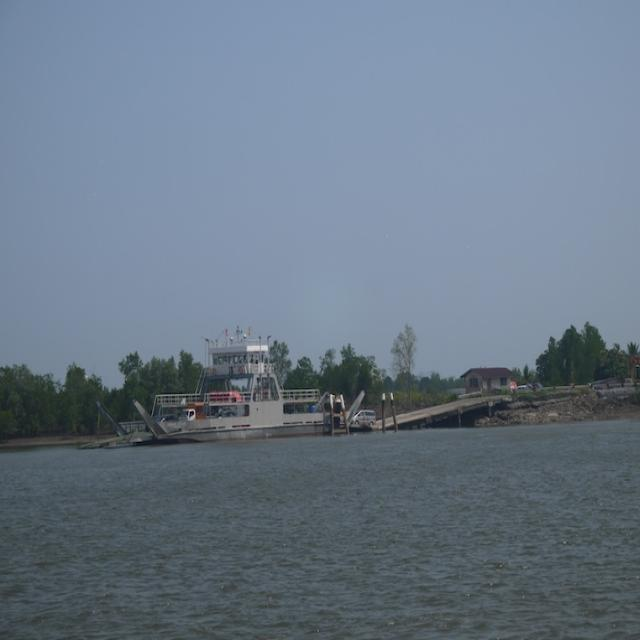passenger ship: (138, 332, 328, 443)
